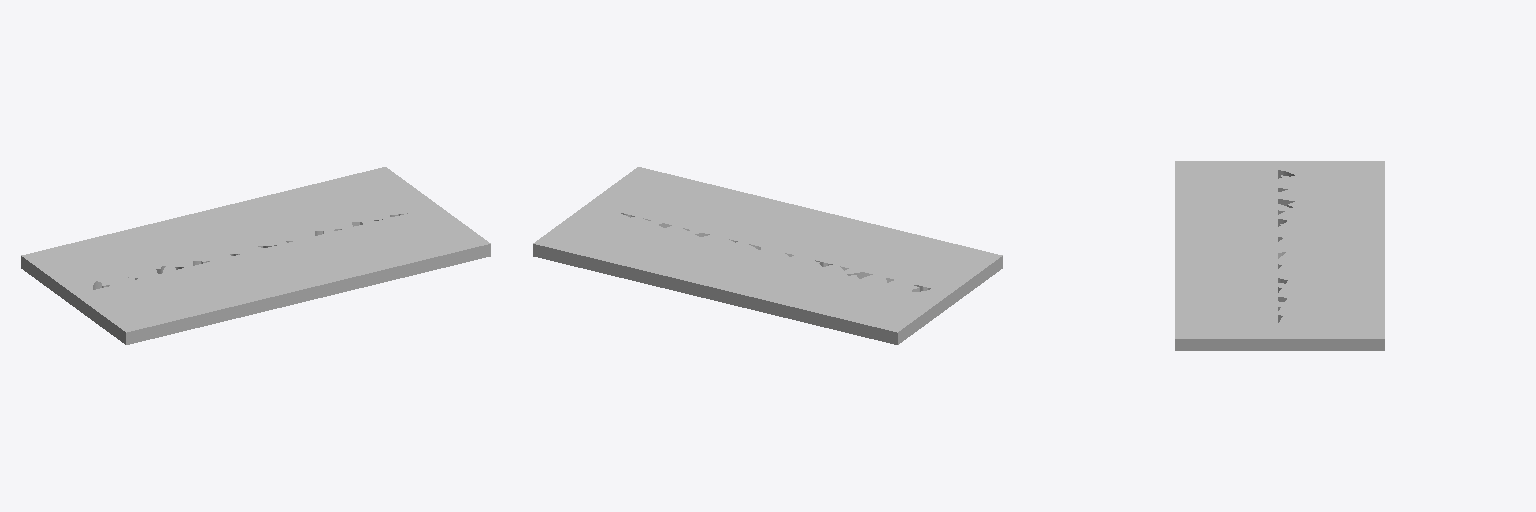
Rendered from etherscape 1.obj.
3 renders of one model, left to right at view 1: azimuth 30°, elevation 25°; view 2: azimuth 150°, elevation 25°; view 3: azimuth 270°, elevation 25°, orthographic.
Visible parts, largest first — view 1: Platformx2Mesh; view 2: Platformx2Mesh; view 3: Platformx2Mesh.
Part boxes in pixels (x1,y1,x2,y2): Platformx2Mesh: (21, 167, 490, 344); Platformx2Mesh: (533, 167, 1002, 344); Platformx2Mesh: (1175, 161, 1384, 350).
Size of the model in its own units: 6 by 0.2 by 3.